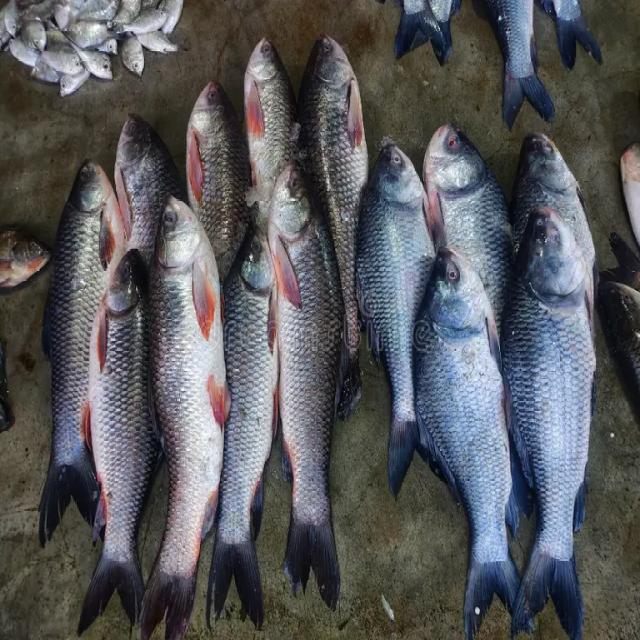Rohu: (408, 243, 535, 631), (138, 195, 228, 639)
